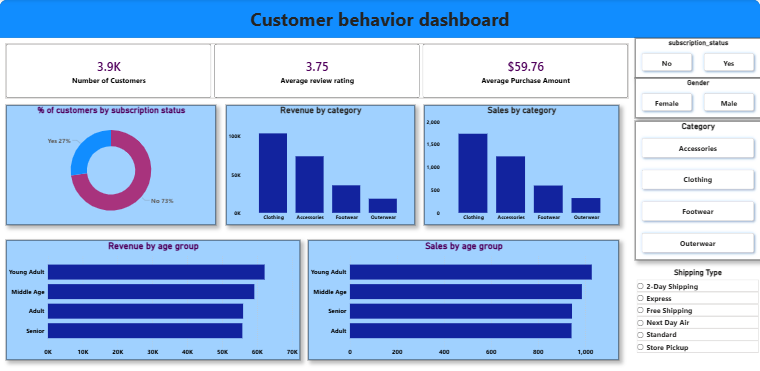

The page's visual inventory and layout, read from the dashboard file:
{"tool":"powerbi","page":{"name":"Page 1","canvas":[2000,1000],"ordinal":0},"visuals":[{"type":"cardVisual","fields":{"Data":["public customer.Number of Customers","public customer.Average review rating","public customer.Average Purchase Amount"]},"box":[0,99.7,1669.3,178.5],"z":0},{"type":"shape","box":[0,0,2000,102.4],"z":1000},{"type":"textbox","box":[0,13.1,2000,89.2],"z":2000},{"type":"donutChart","title":"% of customers by subscription status","fields":{"Category":["public customer.subscription_status"],"Y":["CountNonNull(public customer.customer_id)"]},"box":[18.4,278.2,551.2,315],"z":3000},{"type":"columnChart","title":"Revenue by category","fields":{"Category":["public customer.category"],"Y":["Sum(public customer.purchase_amount)"]},"box":[595.8,278.2,496.1,315],"z":4000},{"type":"columnChart","title":"Sales by category","fields":{"Category":["public customer.category"],"Y":["CountNonNull(public customer.customer_id)"]},"box":[1115.5,278.2,511.8,315],"z":5000},{"type":"advancedSlicerVisual","fields":{"Values":["public customer.subscription_status"]},"box":[1669.3,102.4,330.7,105],"z":6000},{"type":"advancedSlicerVisual","fields":{"Values":["public customer.gender"]},"box":[1669.3,207.3,330.7,105],"z":7000},{"type":"advancedSlicerVisual","title":"Category","fields":{"Values":["public customer.category"]},"box":[1669.3,320.2,330.7,364.8],"z":8000},{"type":"listSlicer","title":"Shipping Type","fields":{"Values":["public customer.shipping_type"]},"box":[1669.3,706,330.7,294],"z":8001},{"type":"clusteredBarChart","title":"Revenue  by age group","fields":{"Y":["Sum(public customer.purchase_amount)"],"Category":["public customer.age_group"]},"box":[18.4,632.5,771.7,315],"z":8002},{"type":"clusteredBarChart","title":"Sales  by age group","fields":{"Category":["public customer.age_group"],"Y":["CountNonNull(public customer.customer_id)"]},"box":[811,632.5,816.3,315],"z":8003}]}

Visuals, with their boxes in screenshot pixels (x1, y1, x2, y2), scaled from the page's 2000x1000 canvas onto the 760x371 screenshot:
cardVisual - public customer.Number of Customers x public customer.Average review rating: x1=0, y1=37, x2=634, y2=103
shape: x1=0, y1=0, x2=759, y2=38
textbox: x1=0, y1=5, x2=759, y2=38
"% of customers by subscription status" donutChart: x1=7, y1=103, x2=216, y2=220
"Revenue by category" columnChart: x1=226, y1=103, x2=415, y2=220
"Sales by category" columnChart: x1=424, y1=103, x2=618, y2=220
advancedSlicerVisual - public customer.subscription_status: x1=634, y1=38, x2=759, y2=77
advancedSlicerVisual - public customer.gender: x1=634, y1=77, x2=759, y2=116
"Category" advancedSlicerVisual: x1=634, y1=119, x2=759, y2=254
"Shipping Type" listSlicer: x1=634, y1=262, x2=759, y2=370
"Revenue  by age group" clusteredBarChart: x1=7, y1=235, x2=300, y2=352
"Sales  by age group" clusteredBarChart: x1=308, y1=235, x2=618, y2=352
